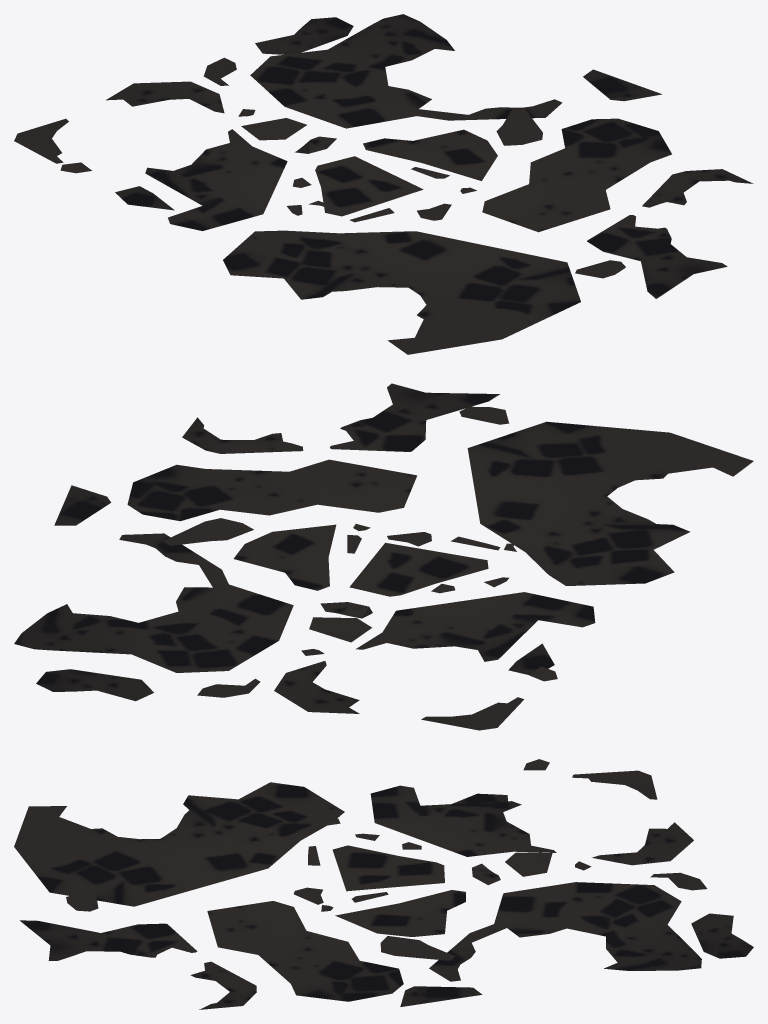
Rendered from Ground_05.FBX.
The picture shows the model from 3 angles, top to bottom: view 1: azimuth 30°, elevation 25°; view 2: azimuth 150°, elevation 25°; view 3: azimuth 270°, elevation 25°; orthographic projection. The views are drawn at different scales.
Visible parts, largest first — view 1: Ground_05; view 2: Ground_05; view 3: Ground_05.
Part boxes in pixels (<box>): Ground_05: <box>14,14,753,354</box>; Ground_05: <box>14,383,753,730</box>; Ground_05: <box>14,759,753,1009</box>.
Size of the model in its own units: 17.57 by 0.8547 by 22.14.
